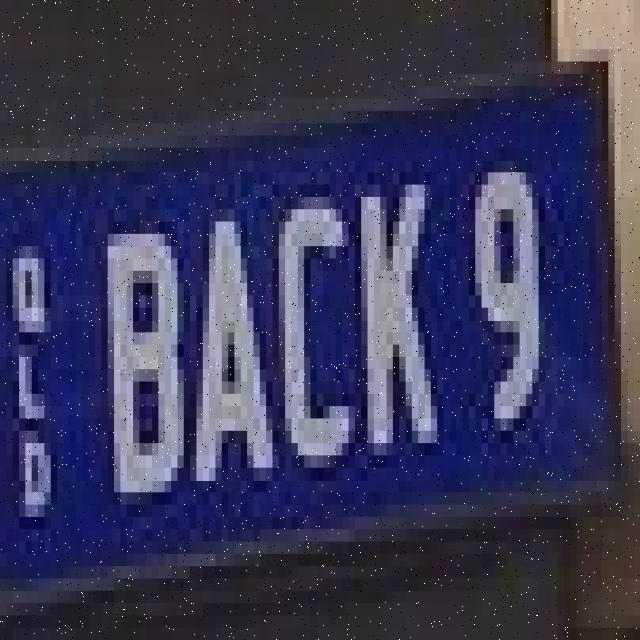licenseplate: (4, 130, 640, 624), (428, 289, 472, 345)
